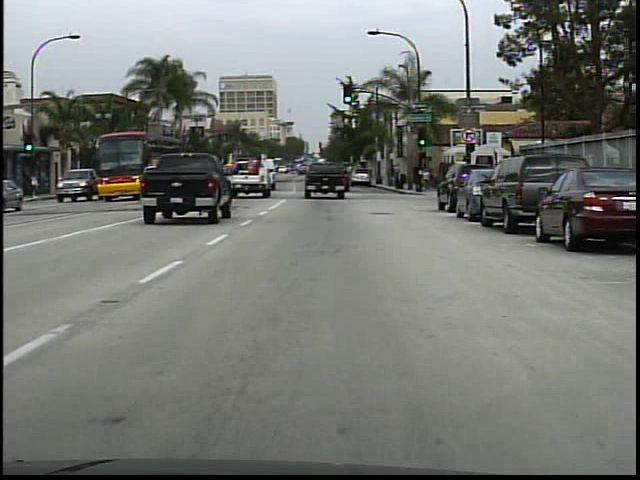person: (422, 167, 431, 192), (427, 169, 435, 191)
